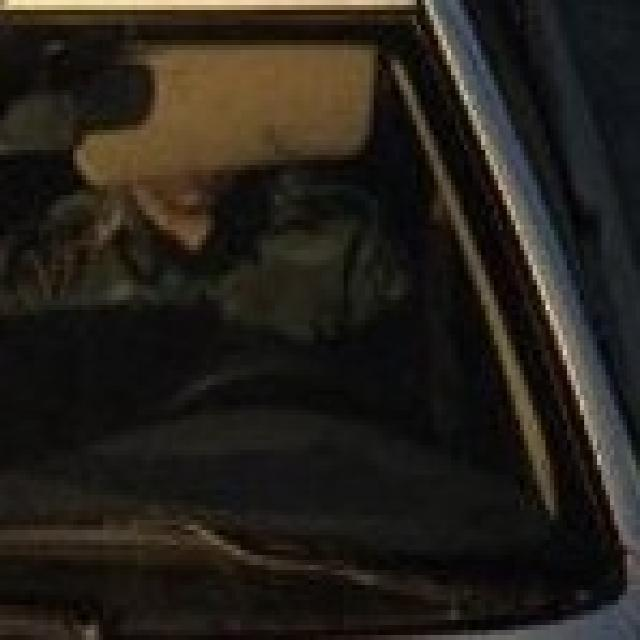No-seat-belt: (33, 82, 570, 523)
